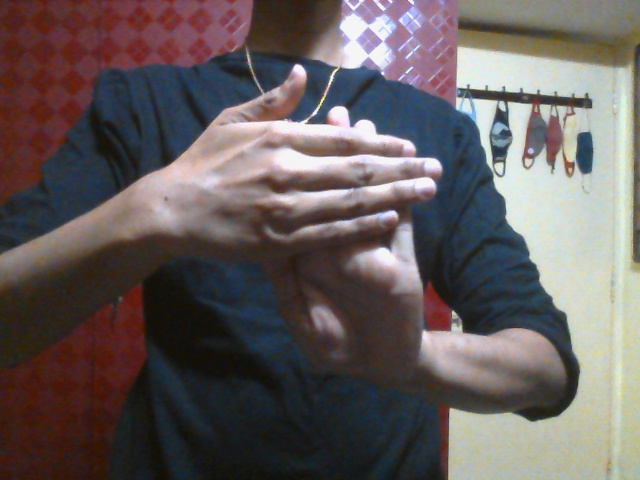H: (202, 62, 444, 386)
